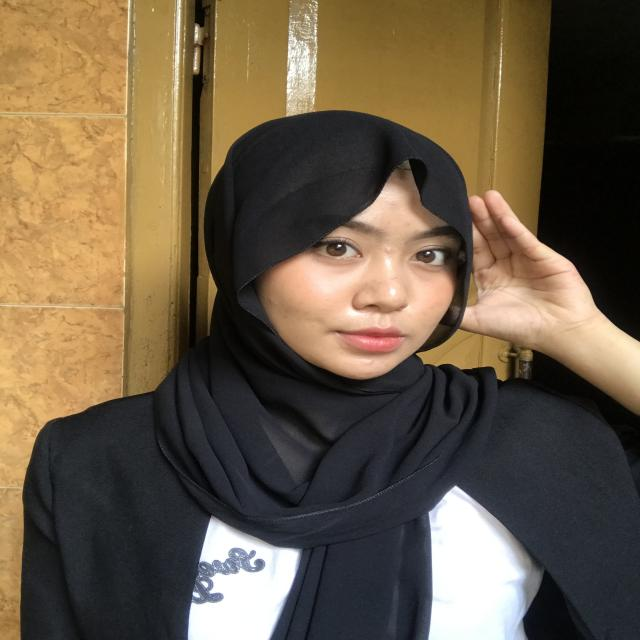mendengar: (458, 180, 588, 378)
